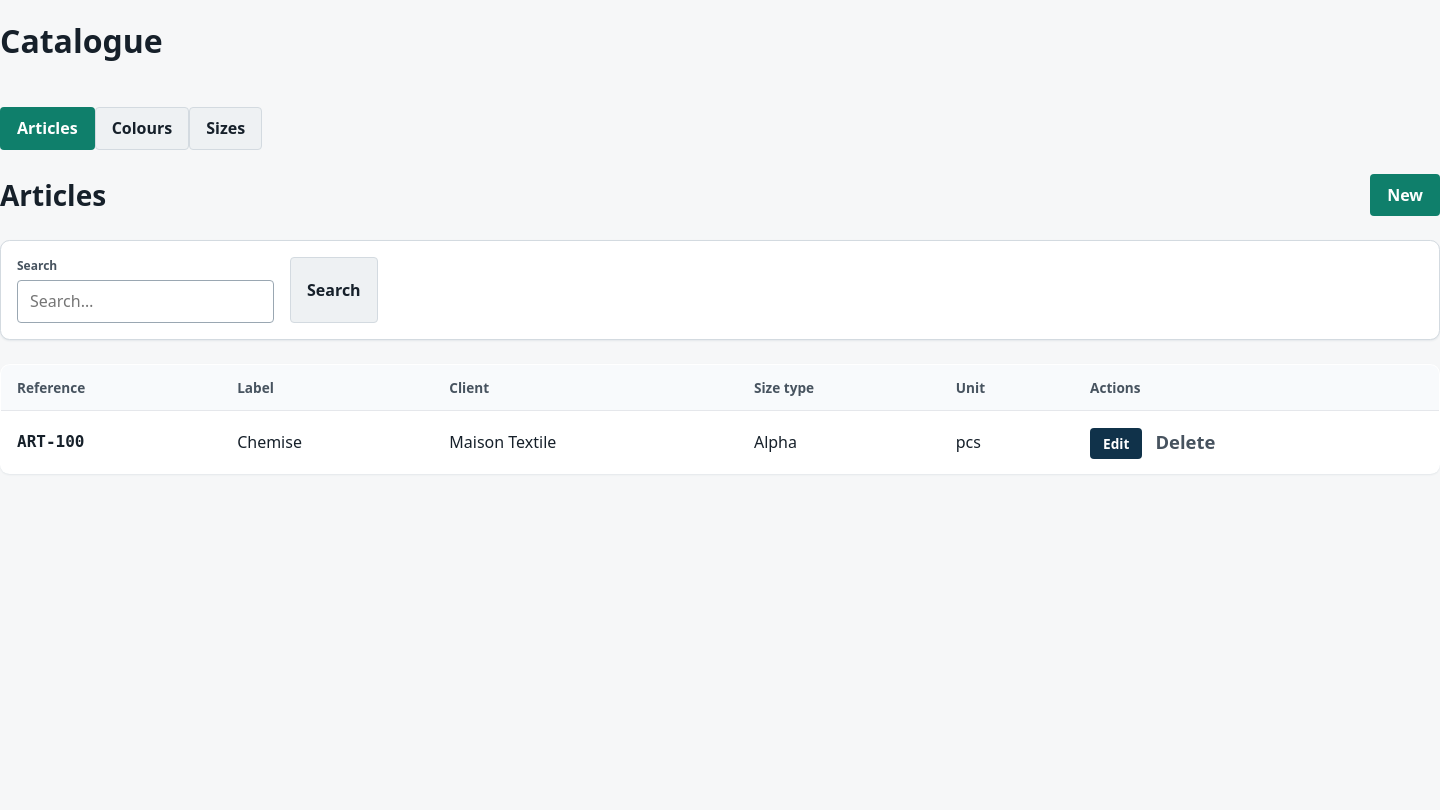
Test case: CataloguePage › confirms a delete in a labelled dialog before removing the row
expect the text "ART-100" is shown: met, box [17,432,84,451]
Click the button "Delete" at (1185, 442), box [1146,423,1224,461]
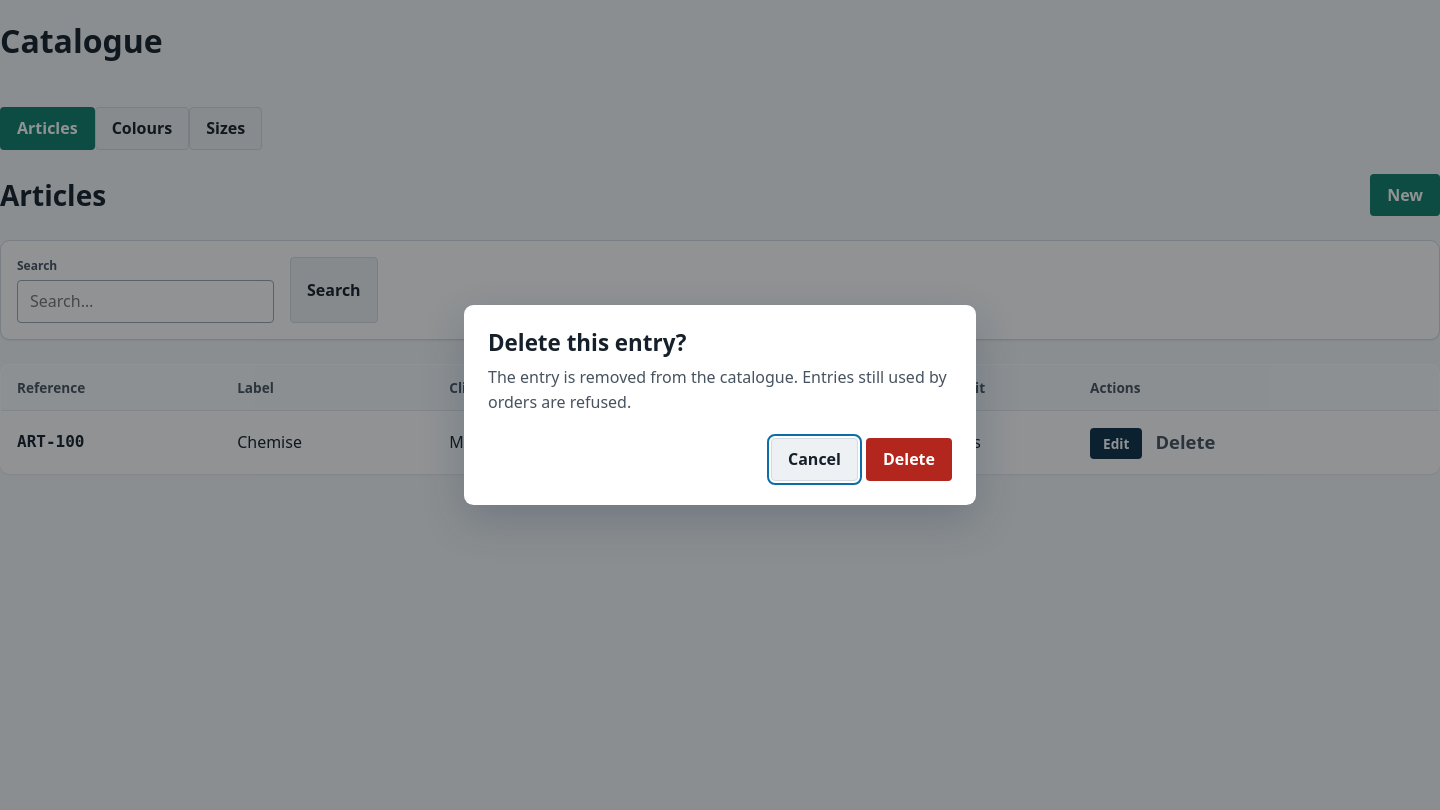
Press Escape
expect the dialog is shown: met, box [464,305,976,505]
Click the button with test id "dialog-cancel" at (814, 460), box [771,438,858,481]
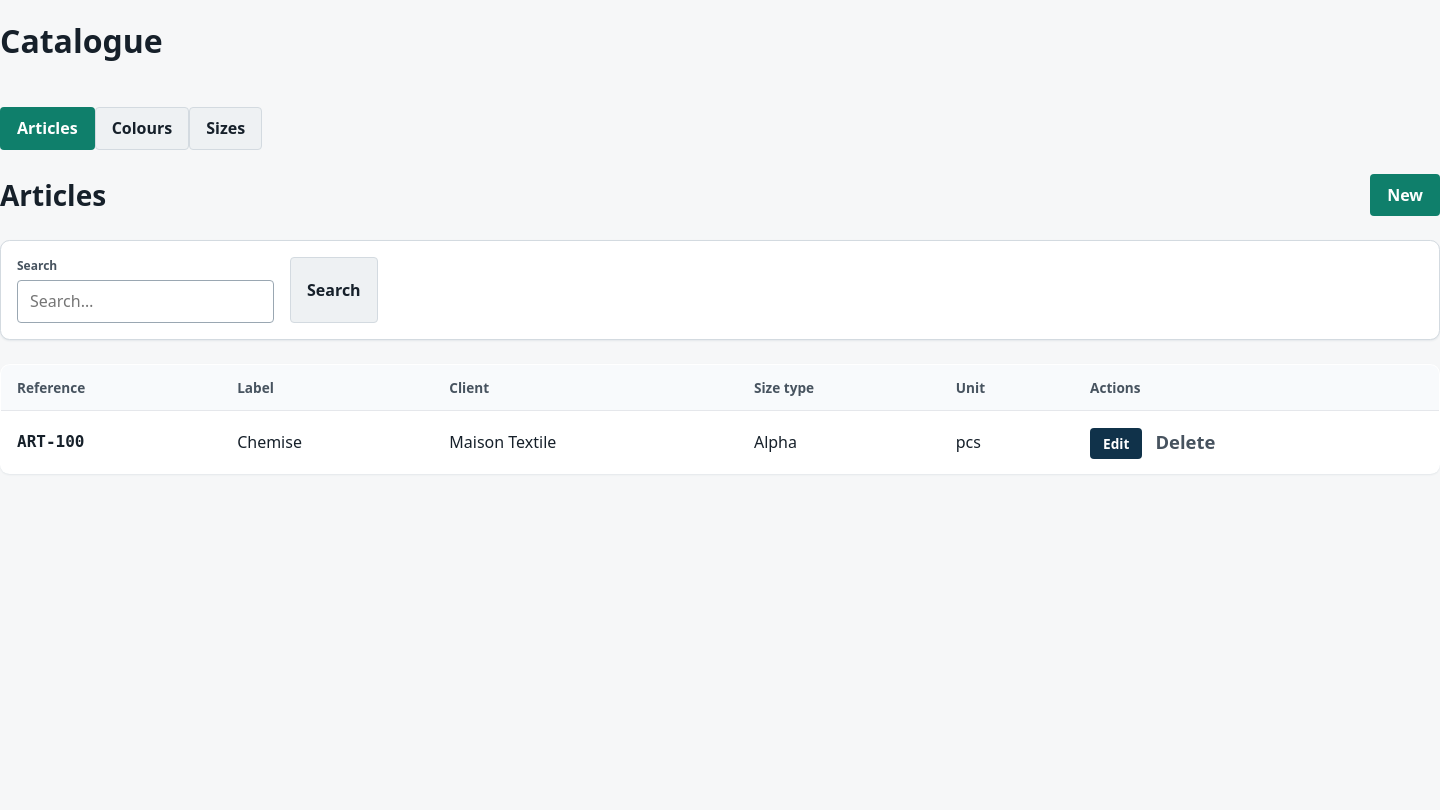
expect the dialog is gone: met
Click the button "Delete" at (1185, 442), box [1146,423,1224,461]
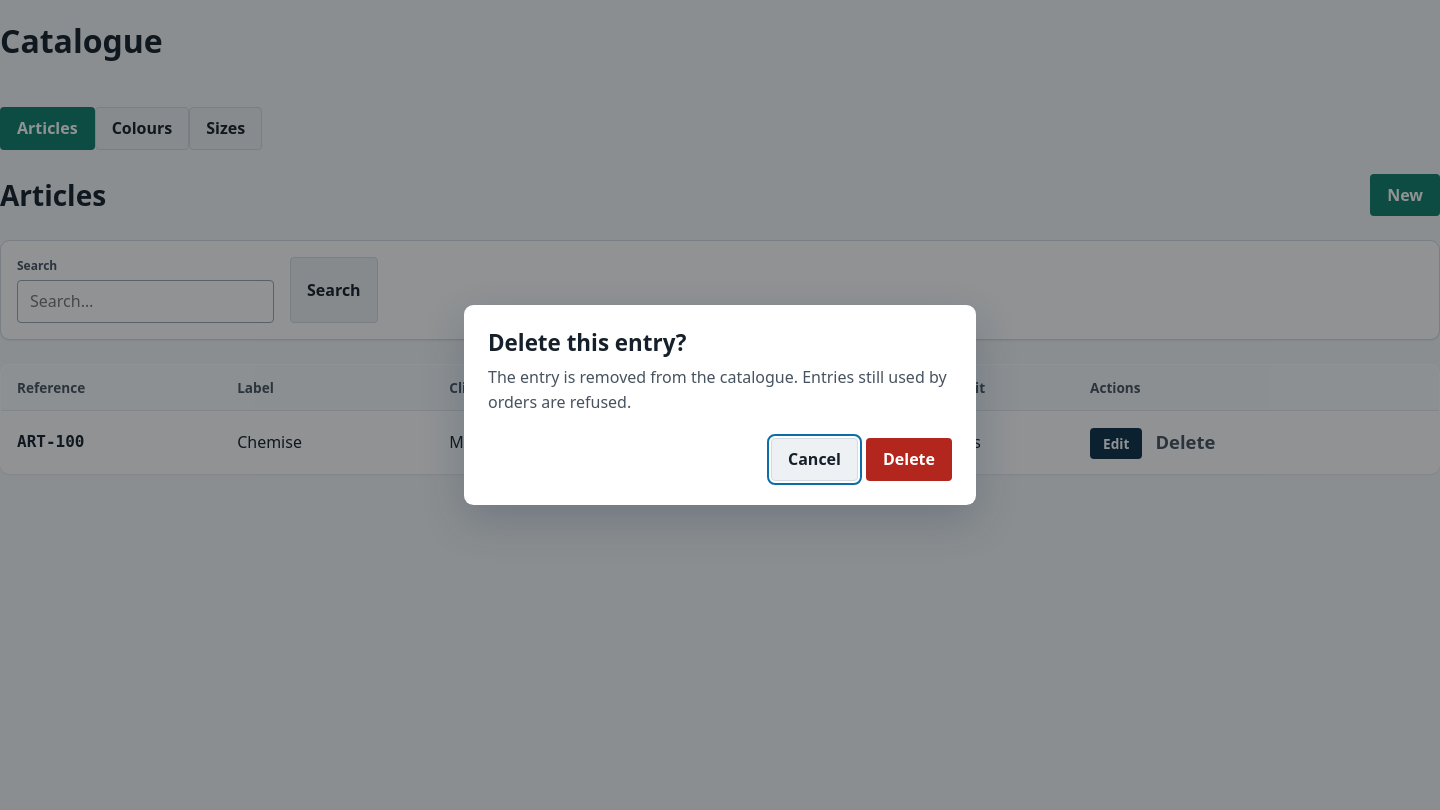
Click the button with test id "dialog-confirm" at (909, 460), box [866,438,952,481]
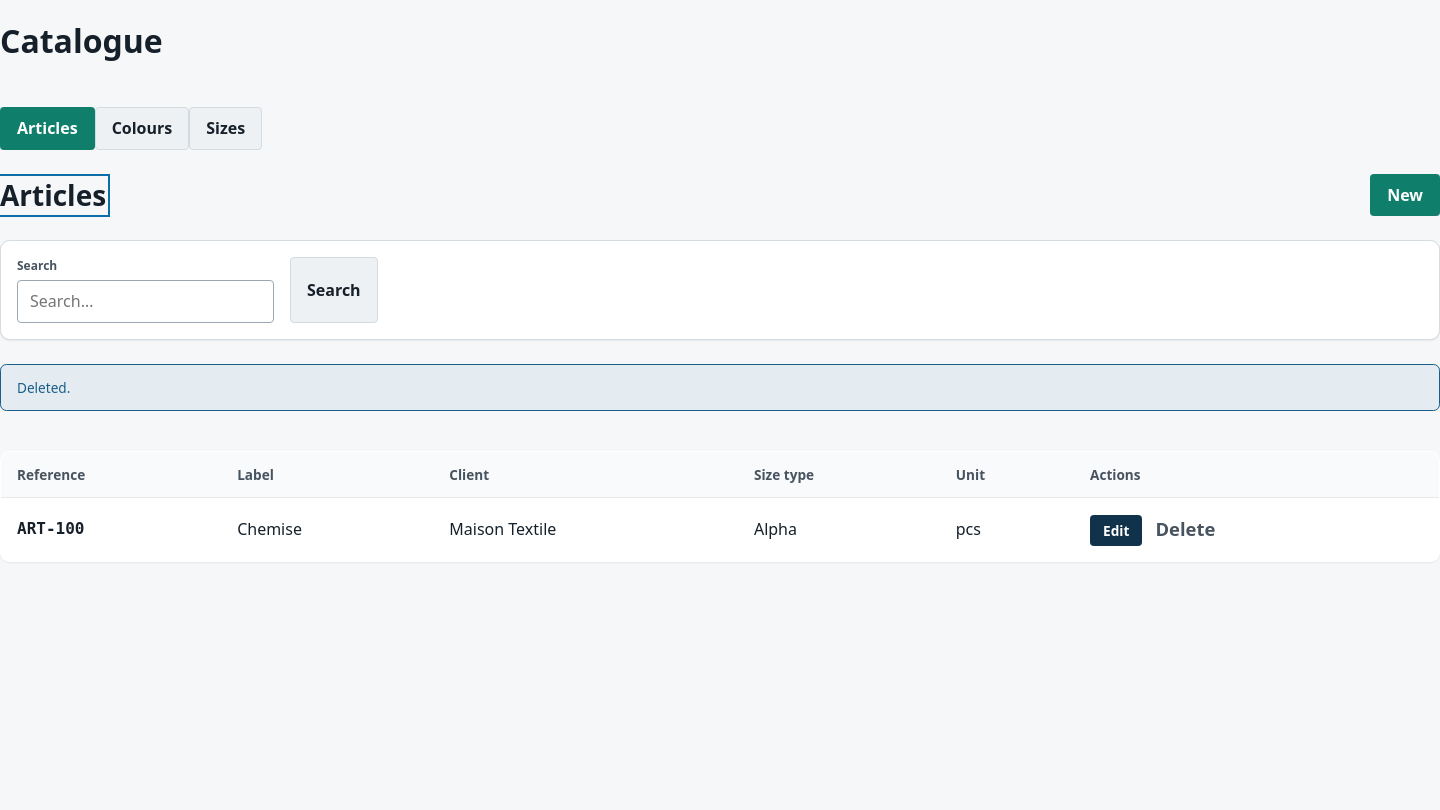
expect the dialog is gone: met
